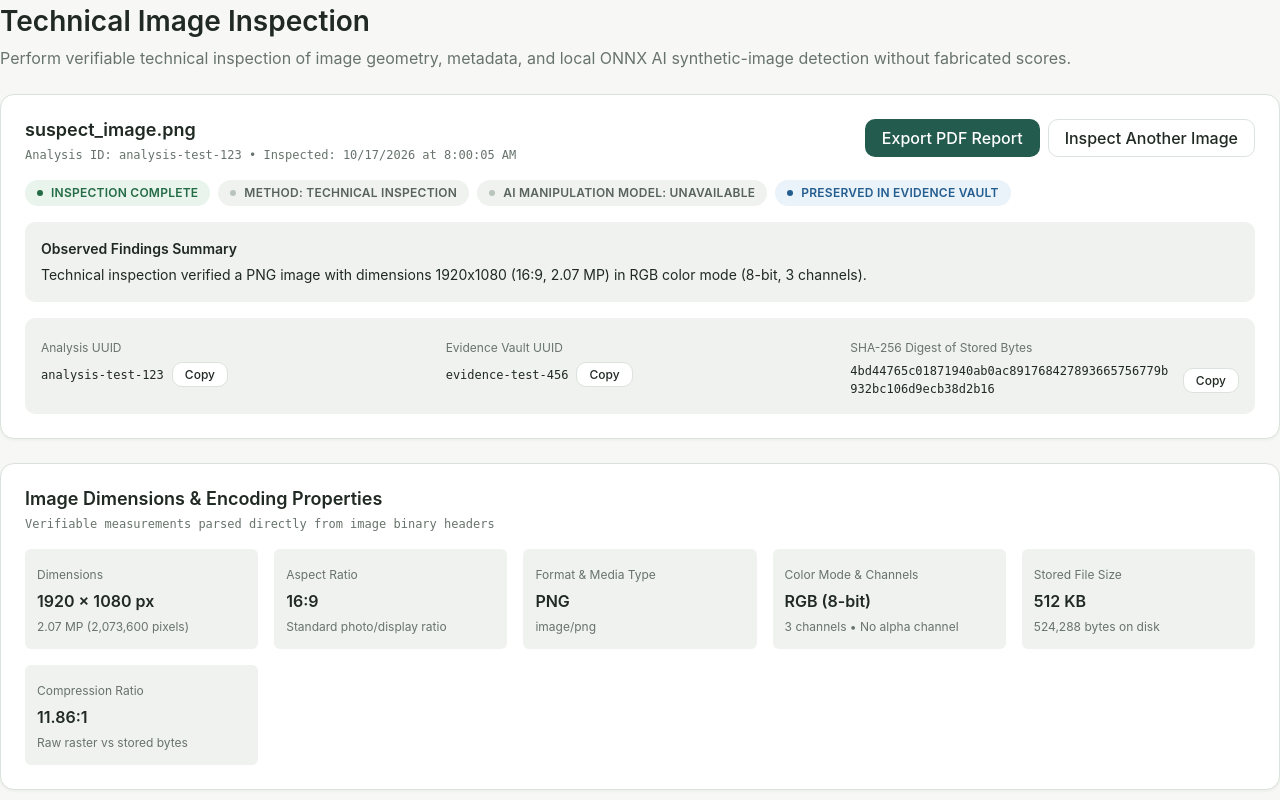
Test: ImageAnalyzer Feature Component › displays error banner when PDF export fails
expect the text "Inspection Complete" is shown: met, box x1=25 y1=180 x2=210 y2=206
Click the button "Export PDF Report". click: (952, 138)
box: x1=865 y1=119 x2=1040 y2=157
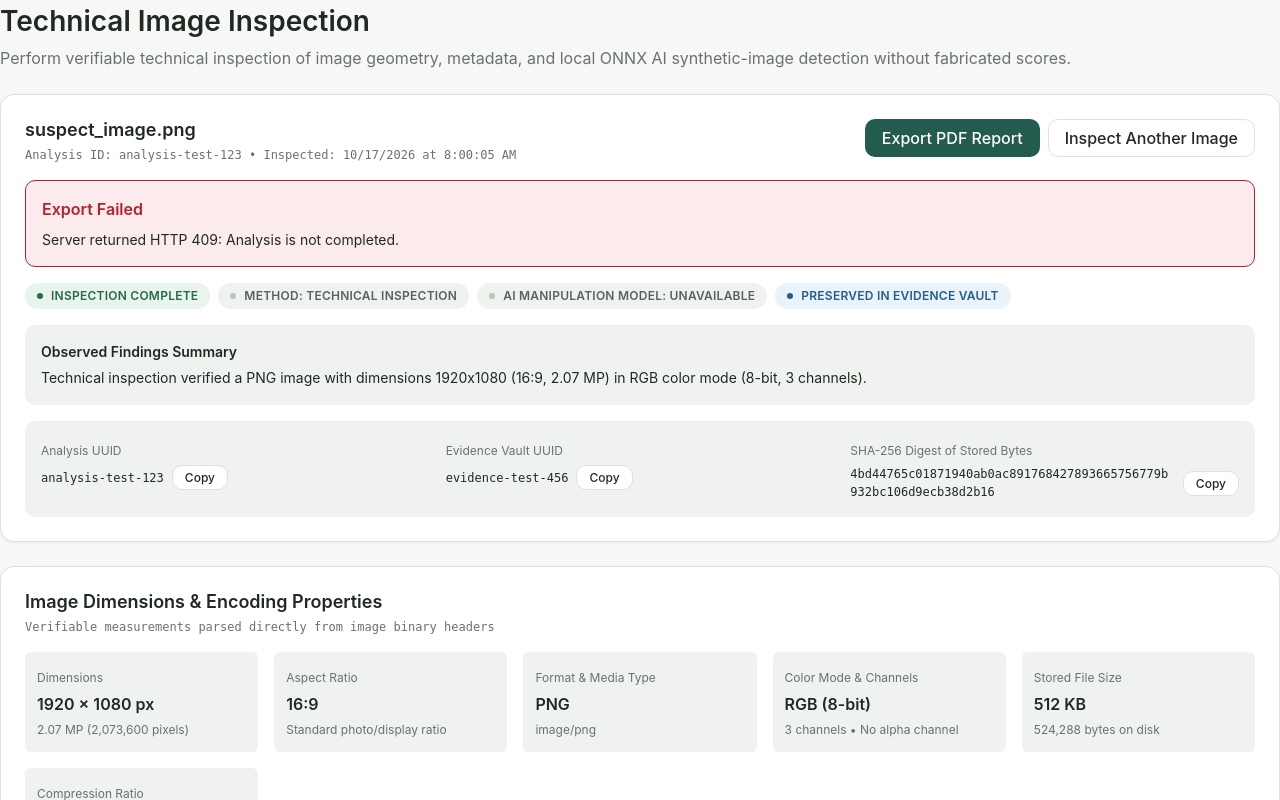
expect the text "Export Failed" is shown: met, box x1=42 y1=198 x2=143 y2=218
expect the text "Server returned HTTP 409: Analysis is not completed." is shown: met, box x1=42 y1=230 x2=399 y2=248
